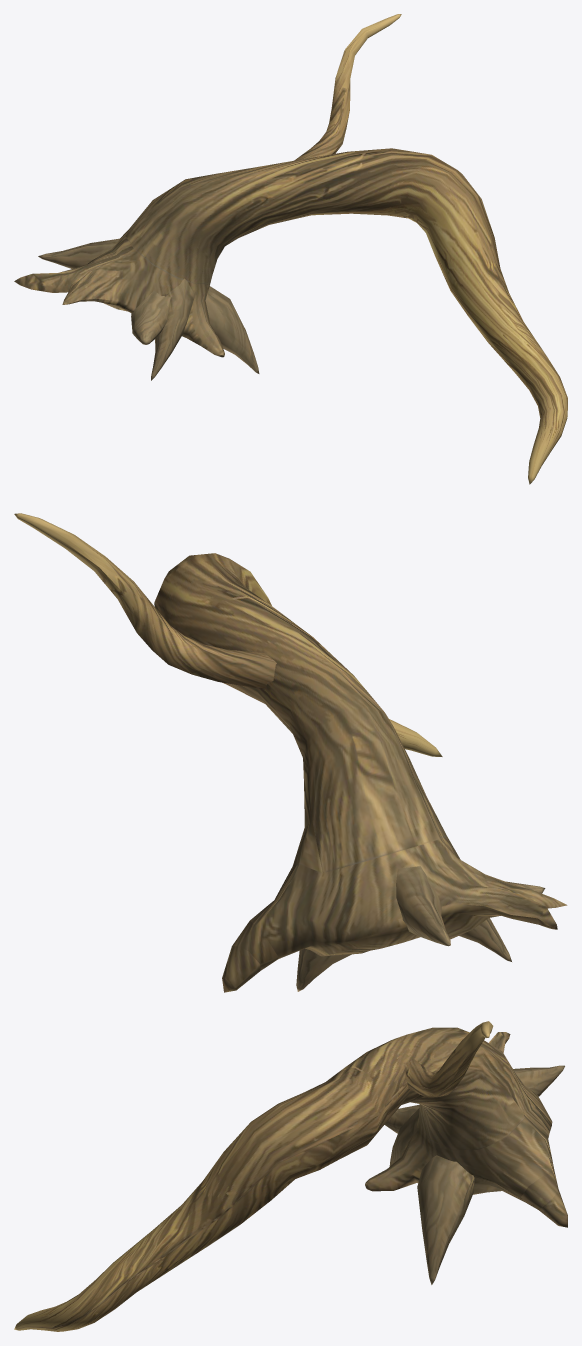
Rendered from DE_Tree_05.fbx.
The picture shows the model from 3 angles, top to bottom: view 1: azimuth 30°, elevation 25°; view 2: azimuth 150°, elevation 25°; view 3: azimuth 270°, elevation 25°; orthographic projection. The views are drawn at different scales.
Parts seen in each view (by area): view 1: DE_Tree_05; view 2: DE_Tree_05; view 3: DE_Tree_05.
Part boxes in pixels (x1,y1,x2,y2): DE_Tree_05: (14,14,567,484); DE_Tree_05: (14,513,567,992); DE_Tree_05: (14,1021,567,1331).
Bounding box in the file's own units: 5.9 × 4.51 × 6.6.
